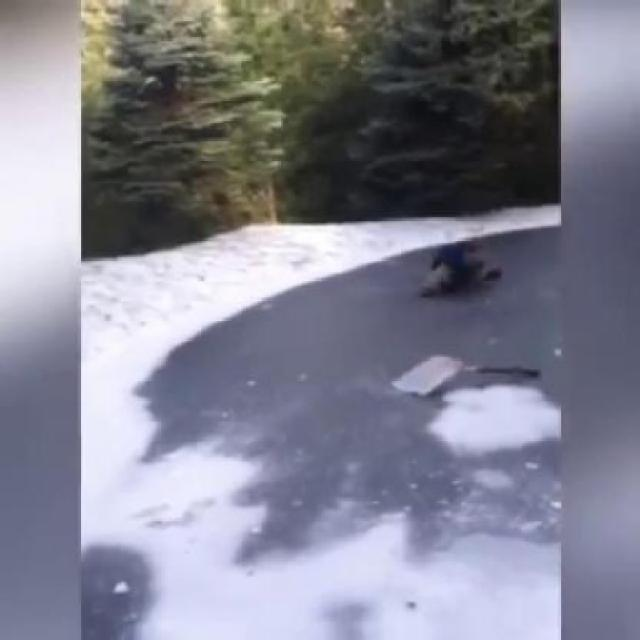fall: (418, 239, 494, 299)
